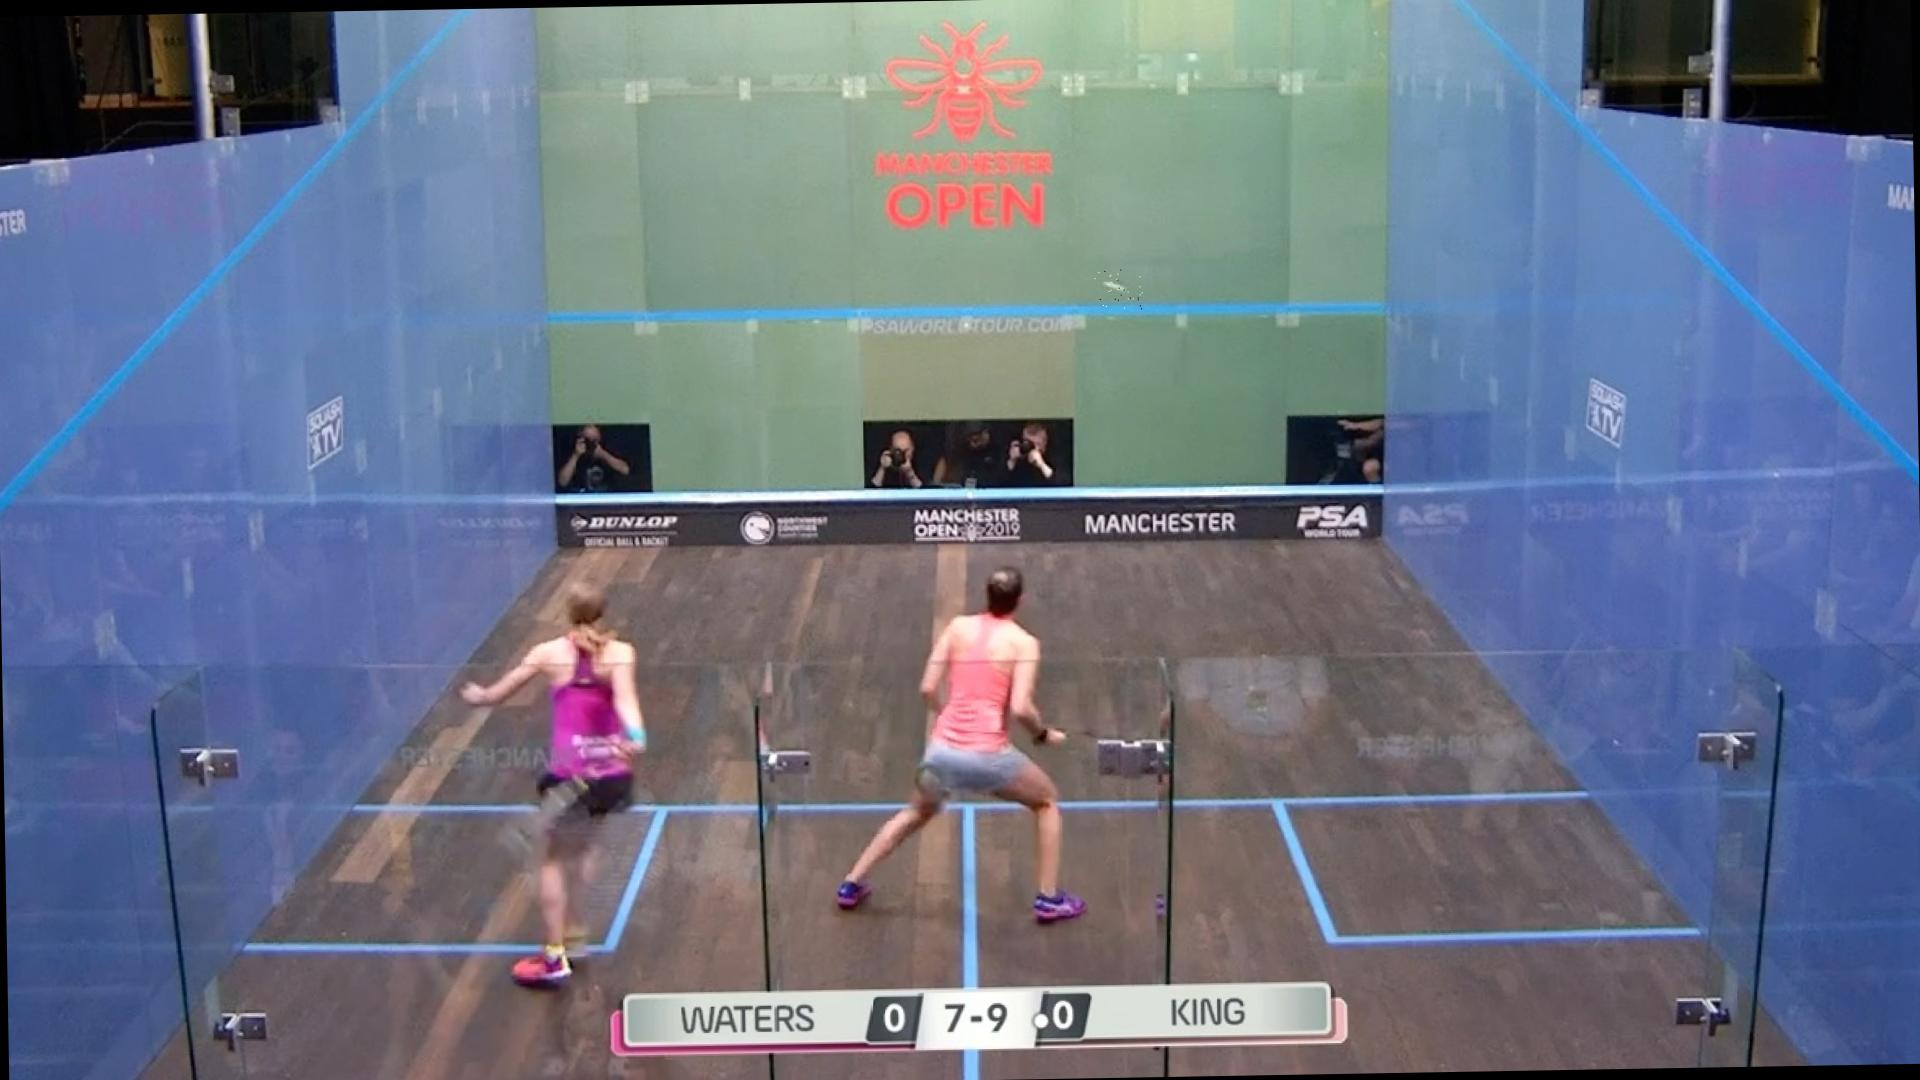Squash-Ball: (1093, 268, 1146, 310)
